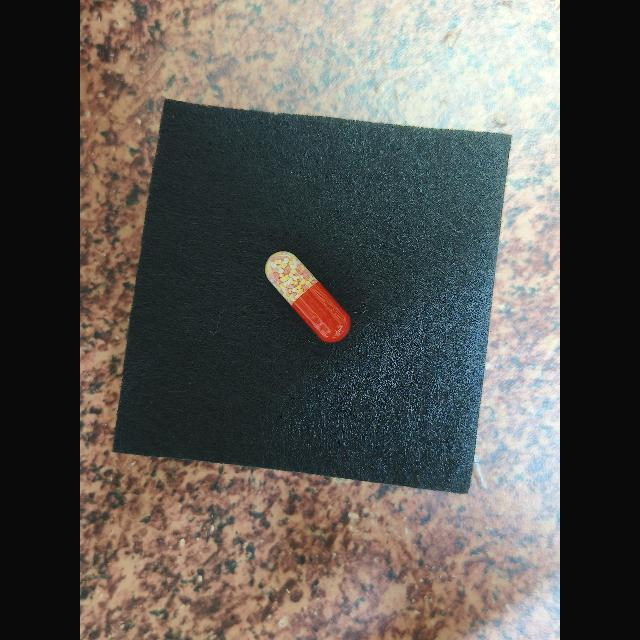Intact Capsule: (265, 251, 351, 343)
